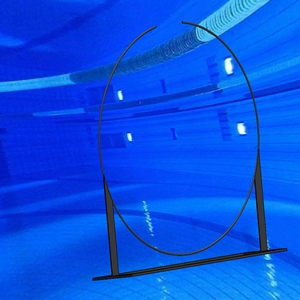circle: (92, 20, 289, 282)
